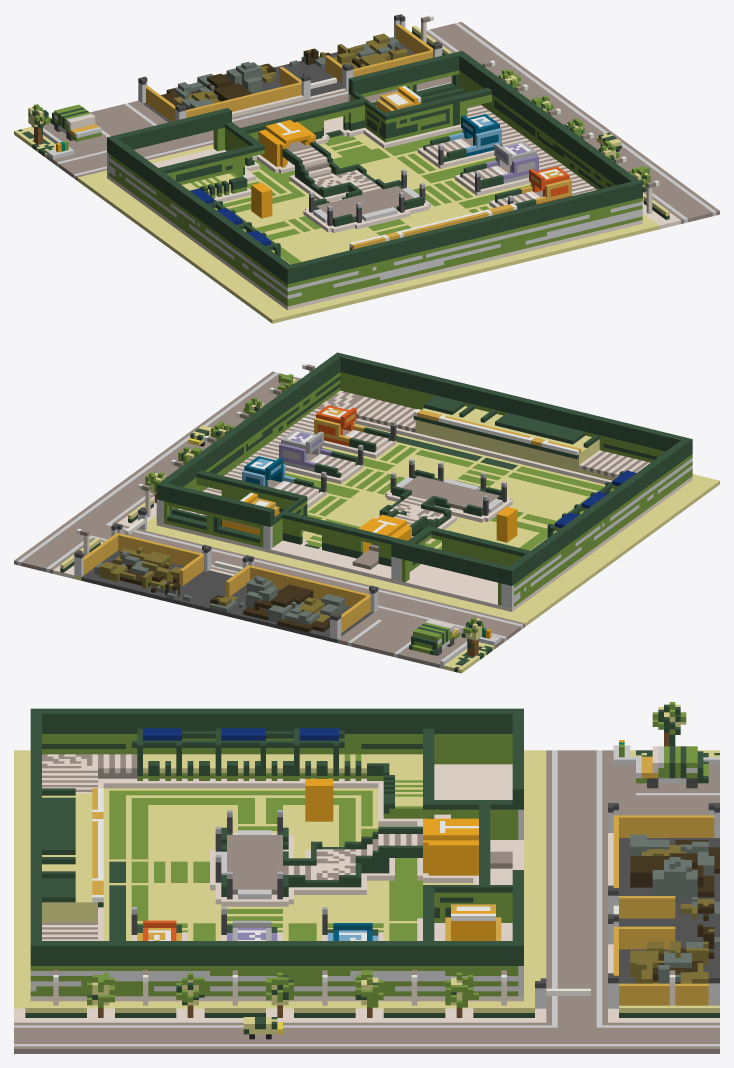
File: map2.gltf
3 views of the same model, one above another, from view 1: azimuth 30°, elevation 25°; view 2: azimuth 150°, elevation 25°; view 3: azimuth 270°, elevation 25° (orthographic). The views are drawn at different scales.
Size of the model in its own units: 12.6 by 1.2 by 12.6.
Materials: 1 (1 with a texture image).
